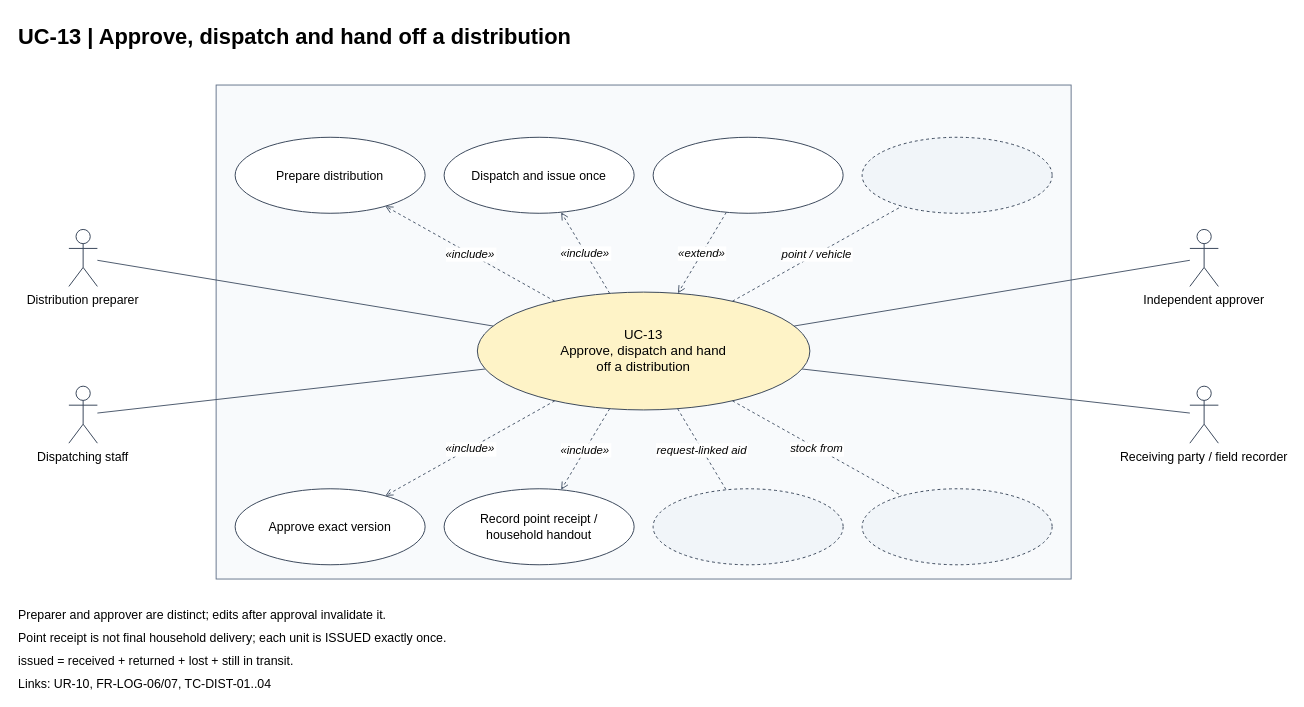
Image size: 1304x707. Some labels were removed from this diagram. Here are the shapes that lost their labels. From the top down, the box of each, then its label:
(652, 136, 843, 213): Record verified return or loss
(861, 136, 1052, 213): UC-09 Vehicles and relief points
(215, 84, 1071, 579): C48 system
(652, 488, 843, 565): UC-04 Commit and fulfill need
(861, 488, 1052, 565): UC-12 Count, review, post receipt
